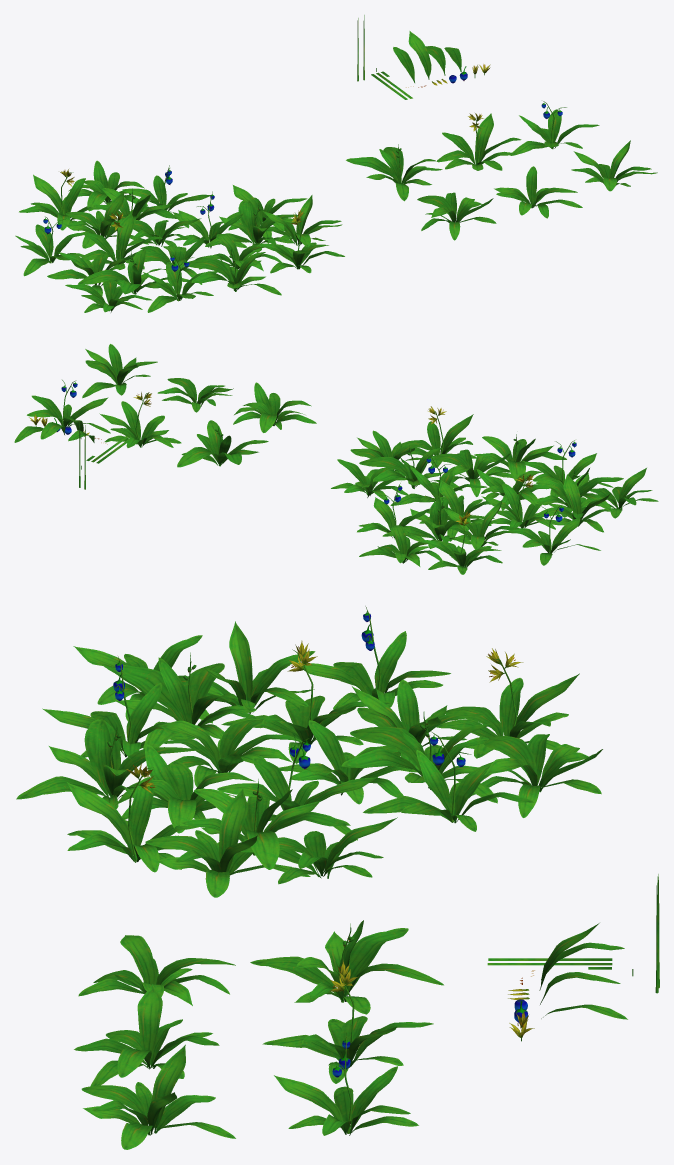
3 views of the same model, one above another, from view 1: azimuth 30°, elevation 25°; view 2: azimuth 150°, elevation 25°; view 3: azimuth 270°, elevation 25° (orthographic). The views are drawn at different scales.
Visible parts, largest first — view 1: Scene_plants_Berry_plant_0, Plant_flowers, Plant_bud, Plant_var_3, Plant_var_2, Plant_berries, Plant_var_1, Leaf_low; view 2: Scene_plants_Berry_plant_0, Plant_bud, Plant_flowers, Plant_var_3, Plant_var_1, Plant_berries, Plant_var_2; view 3: Scene_plants_Berry_plant_0, Plant_var_1, Plant_bud, Plant_var_2, Plant_berries, Plant_var_3, Plant_flowers.
Part boxes in pixels (x1,y1,x2,y2): Scene_plants_Berry_plant_0: [15, 160, 344, 312]; Plant_flowers: [436, 113, 521, 170]; Plant_bud: [346, 144, 442, 201]; Plant_var_3: [417, 192, 496, 240]; Plant_var_2: [494, 166, 582, 218]; Plant_berries: [510, 101, 599, 155]; Plant_var_1: [571, 140, 657, 191]; Leaf_low: [408, 31, 431, 79]; Scene_plants_Berry_plant_0: [331, 406, 658, 574]; Plant_bud: [177, 420, 268, 467]; Plant_flowers: [99, 392, 181, 447]; Plant_var_3: [233, 382, 316, 432]; Plant_var_1: [82, 344, 157, 398]; Plant_berries: [27, 380, 110, 433]; Plant_var_2: [157, 378, 233, 412]; Scene_plants_Berry_plant_0: [16, 606, 602, 897]; Plant_var_1: [81, 1044, 235, 1149]; Plant_bud: [250, 920, 443, 1014]; Plant_var_2: [74, 984, 219, 1086]; Plant_berries: [274, 1033, 418, 1135]; Plant_var_3: [78, 935, 235, 1005]; Plant_flowers: [262, 960, 433, 1083].
Size of the model in its own units: 7.6 by 1.23 by 4.15.
Materials: 1 (1 with a texture image).
